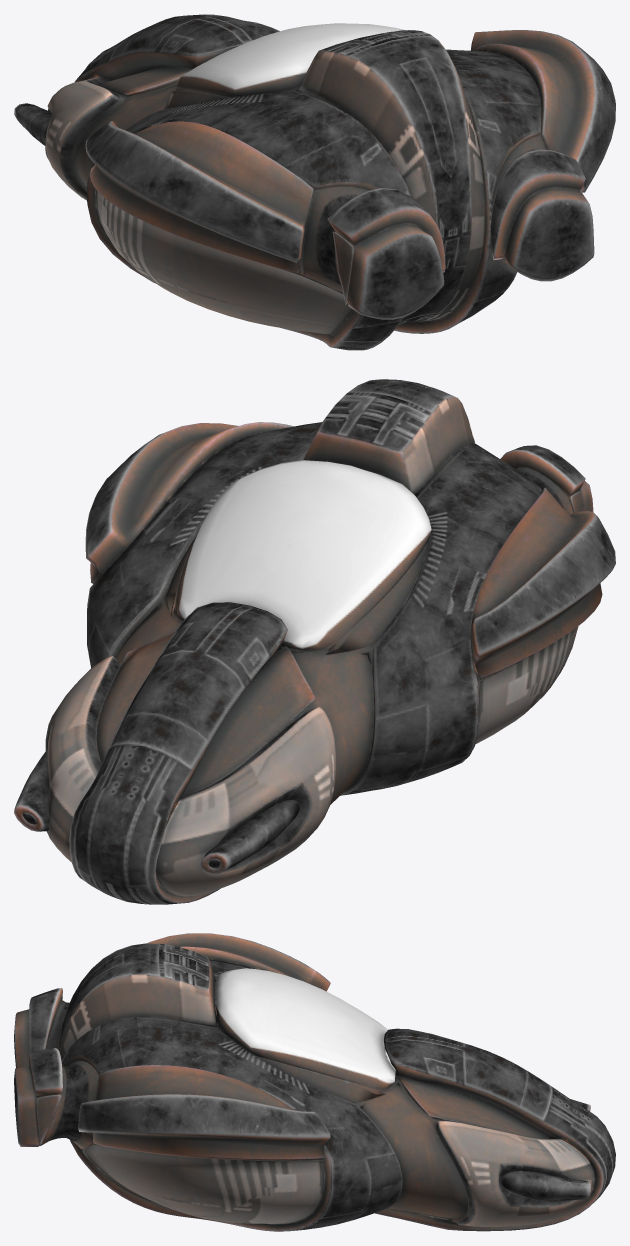
Rendered from LowResGreebleShip.Obj.
3 renders of one model, top to bottom at view 1: azimuth 30°, elevation 25°; view 2: azimuth 150°, elevation 25°; view 3: azimuth 270°, elevation 25°, orthographic. The views are drawn at different scales.
Parts seen in each view (by area): view 1: Group8525, Group53145, Group7, Group46002, Group11, Group10, Group40764, Group50575, Group46005, Group28, Group43187, Group46027 (+19 smaller); view 2: Group8525, Group50575, Group43187, Group3, Group4, Group11, Group46002, Group5, Group46005, Group53145, Group7, Group6 (+12 smaller); view 3: Group8525, Group7, Group50575, Group43187, Group46002, Group3, Group11, Group5, Group40764, Group46005, Group53145, Group4 (+16 smaller).
Part boxes in pixels (bbox=[...]): Group8525: bbox=[49, 49, 541, 350]; Group53145: bbox=[319, 30, 471, 325]; Group7: bbox=[96, 190, 351, 334]; Group46002: bbox=[85, 30, 615, 262]; Group11: bbox=[90, 45, 574, 272]; Group10: bbox=[360, 199, 594, 319]; Group40764: bbox=[298, 50, 484, 321]; Group50575: bbox=[182, 23, 405, 89]; Group46005: bbox=[98, 30, 594, 260]; Group28: bbox=[328, 149, 585, 259]; Group43187: bbox=[75, 14, 279, 80]; Group46027: bbox=[71, 64, 582, 336]; Group8525: bbox=[87, 422, 541, 805]; Group50575: bbox=[179, 460, 431, 647]; Group43187: bbox=[69, 602, 287, 904]; Group3: bbox=[47, 656, 336, 896]; Group4: bbox=[96, 632, 315, 796]; Group11: bbox=[90, 428, 602, 677]; Group46002: bbox=[85, 428, 615, 654]; Group5: bbox=[115, 605, 374, 804]; Group46005: bbox=[86, 423, 594, 665]; Group53145: bbox=[319, 379, 455, 450]; Group7: bbox=[475, 626, 578, 744]; Group6: bbox=[15, 749, 300, 872]; Group8525: bbox=[61, 959, 523, 1231]; Group7: bbox=[84, 1145, 323, 1223]; Group50575: bbox=[214, 968, 395, 1082]; Group43187: bbox=[384, 1028, 615, 1204]; Group46002: bbox=[78, 933, 330, 1137]; Group3: bbox=[438, 1121, 595, 1226]; Group11: bbox=[92, 946, 325, 1158]; Group5: bbox=[362, 1083, 467, 1218]; Group40764: bbox=[59, 974, 216, 1061]; Group46005: bbox=[95, 933, 330, 1146]; Group53145: bbox=[58, 943, 209, 1051]; Group4: bbox=[398, 1076, 552, 1139].
Size of the model in its own units: 1.54 by 1.02 by 2.11.
1 material, 1 textured.
